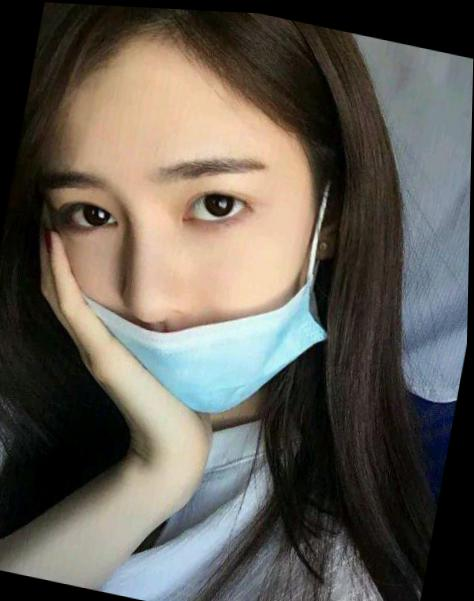WRONG: (27, 104, 347, 432)
